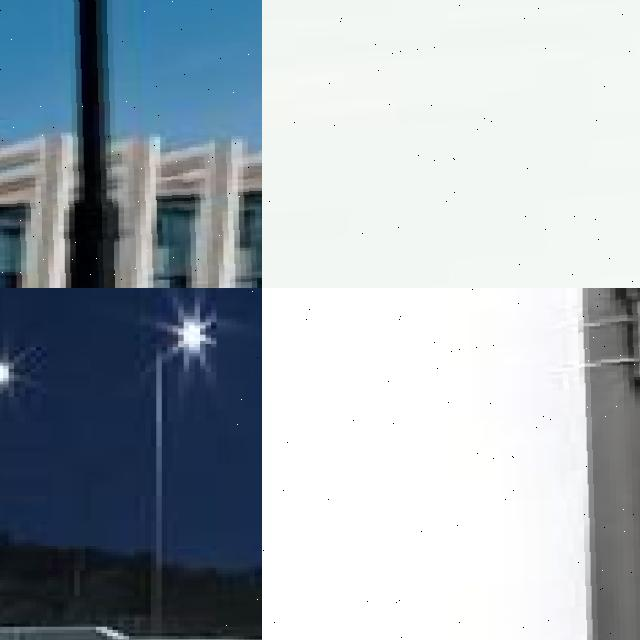street light: (262, 288, 640, 640), (262, 0, 640, 288), (0, 0, 262, 288), (150, 319, 208, 640), (216, 288, 262, 626), (0, 359, 14, 623)
